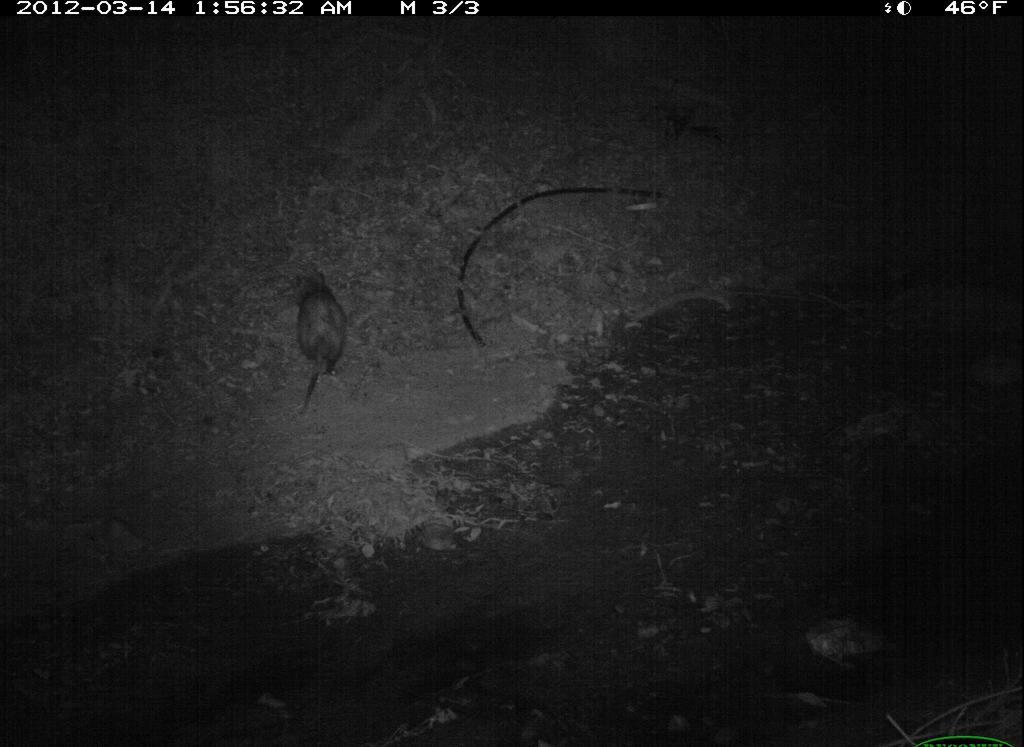opossum: (287, 263, 361, 424)
